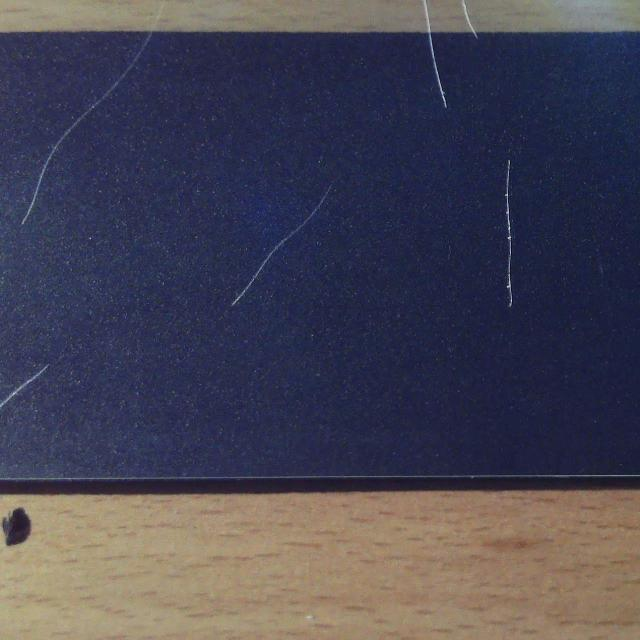defect: (23, 33, 153, 226), (232, 180, 335, 306), (502, 158, 519, 308), (422, 34, 451, 109), (0, 362, 50, 405), (470, 33, 487, 40)
